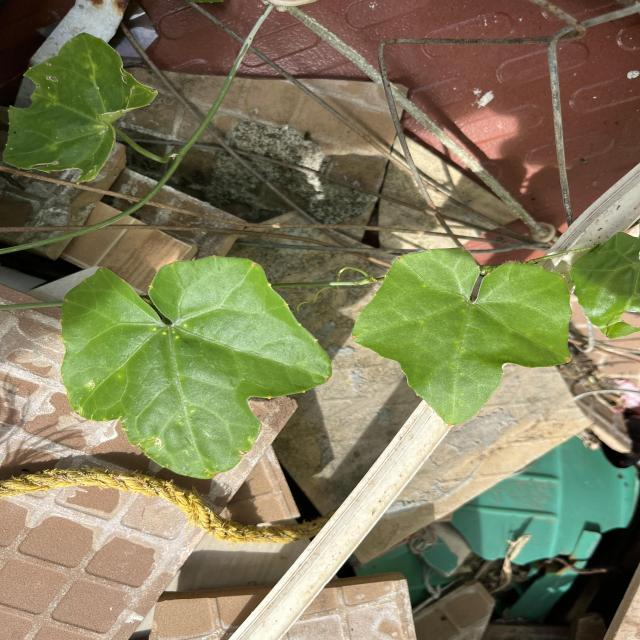Coccinia grandis: (58, 254, 334, 480), (350, 246, 575, 428)
